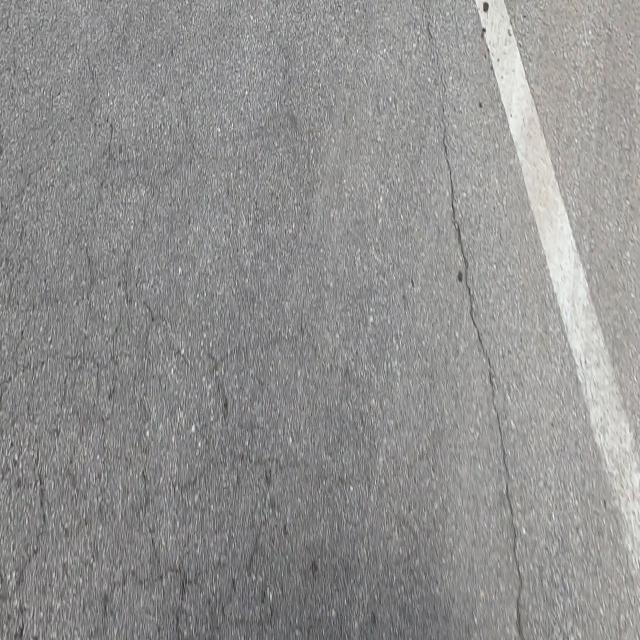Retak-Buaya: (13, 158, 287, 636)
Retak-Memanjang: (439, 113, 526, 640)
